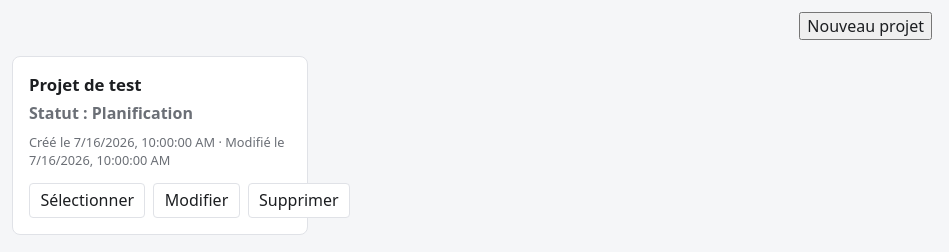
Test: ProjectsPage — suppression › supprime le projet après confirmation
Check: the heading "Projet de test" is shown, box left=29, top=73, right=142, bottom=96
Click the button "Supprimer".
click(299, 200)  # box left=248, top=183, right=350, bottom=218
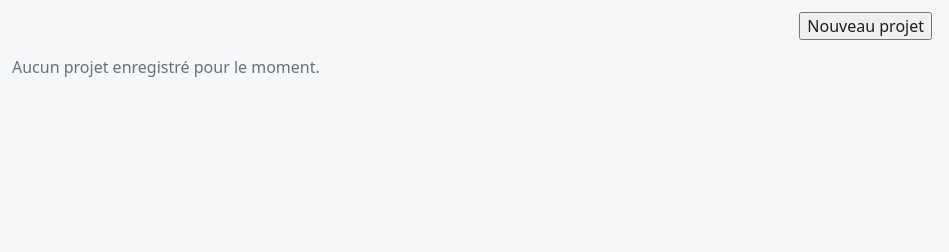
Check: the text "Aucun projet enregistré pour le moment." is shown, box left=12, top=56, right=320, bottom=78
